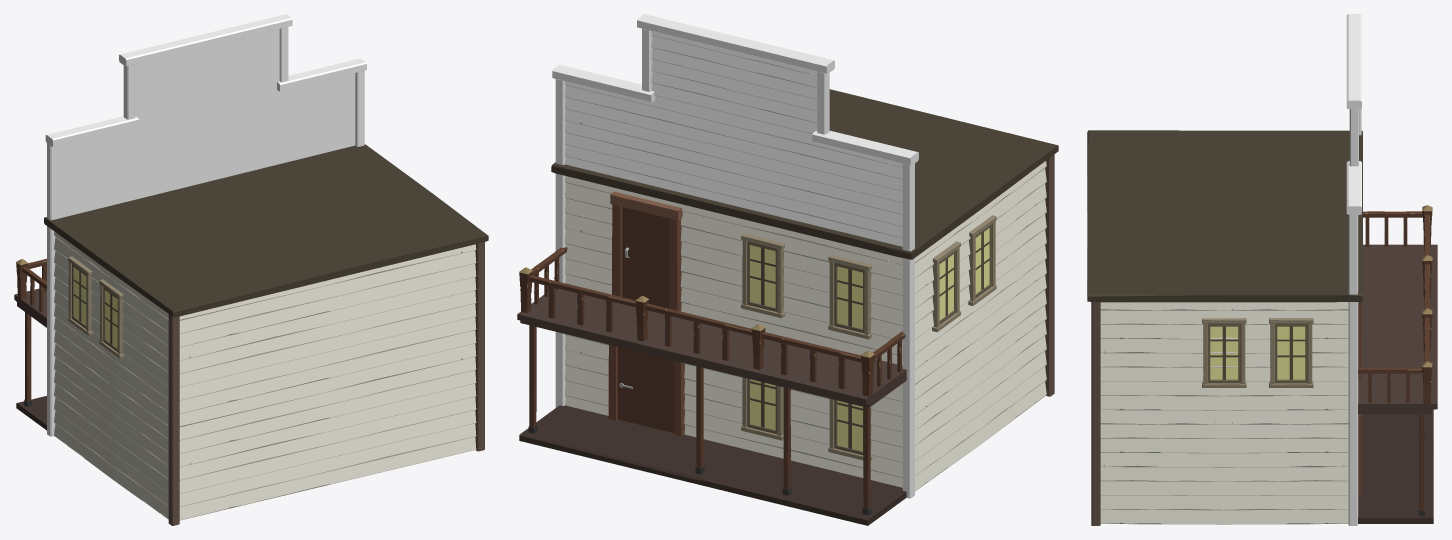
File: BG_WoodHouse08.fbx
3 renders of one model, left to right at view 1: azimuth 30°, elevation 25°; view 2: azimuth 150°, elevation 25°; view 3: azimuth 270°, elevation 25°, orthographic. The views are drawn at different scales.
Parts seen in each view (by area): view 1: BG_WoodHouse08; view 2: BG_WoodHouse08; view 3: BG_WoodHouse08.
Boxes of the visible parts, x1=… form: BG_WoodHouse08: x1=14, y1=14, x2=488, y2=525; BG_WoodHouse08: x1=517, y1=14, x2=1058, y2=525; BG_WoodHouse08: x1=1087, y1=14, x2=1437, y2=525.
Size of the model in its own units: 476 by 524 by 428.
